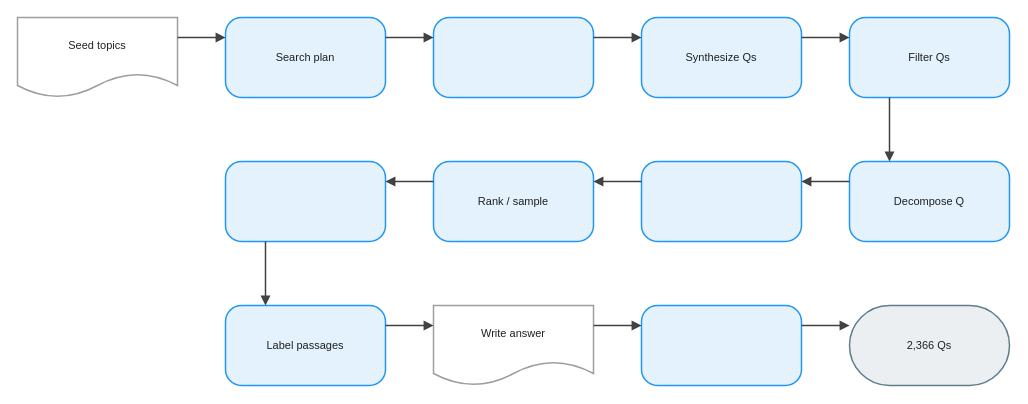
The diagram is 1028 pixels wide and 404 high, and some of its shapes have lost their labels. Each missing label, with the box of its shape:
Answer check: (640, 304, 802, 386)
Label question: (224, 160, 386, 242)
Retrieve docs: (640, 160, 802, 242)
Search Web: (432, 16, 594, 98)
